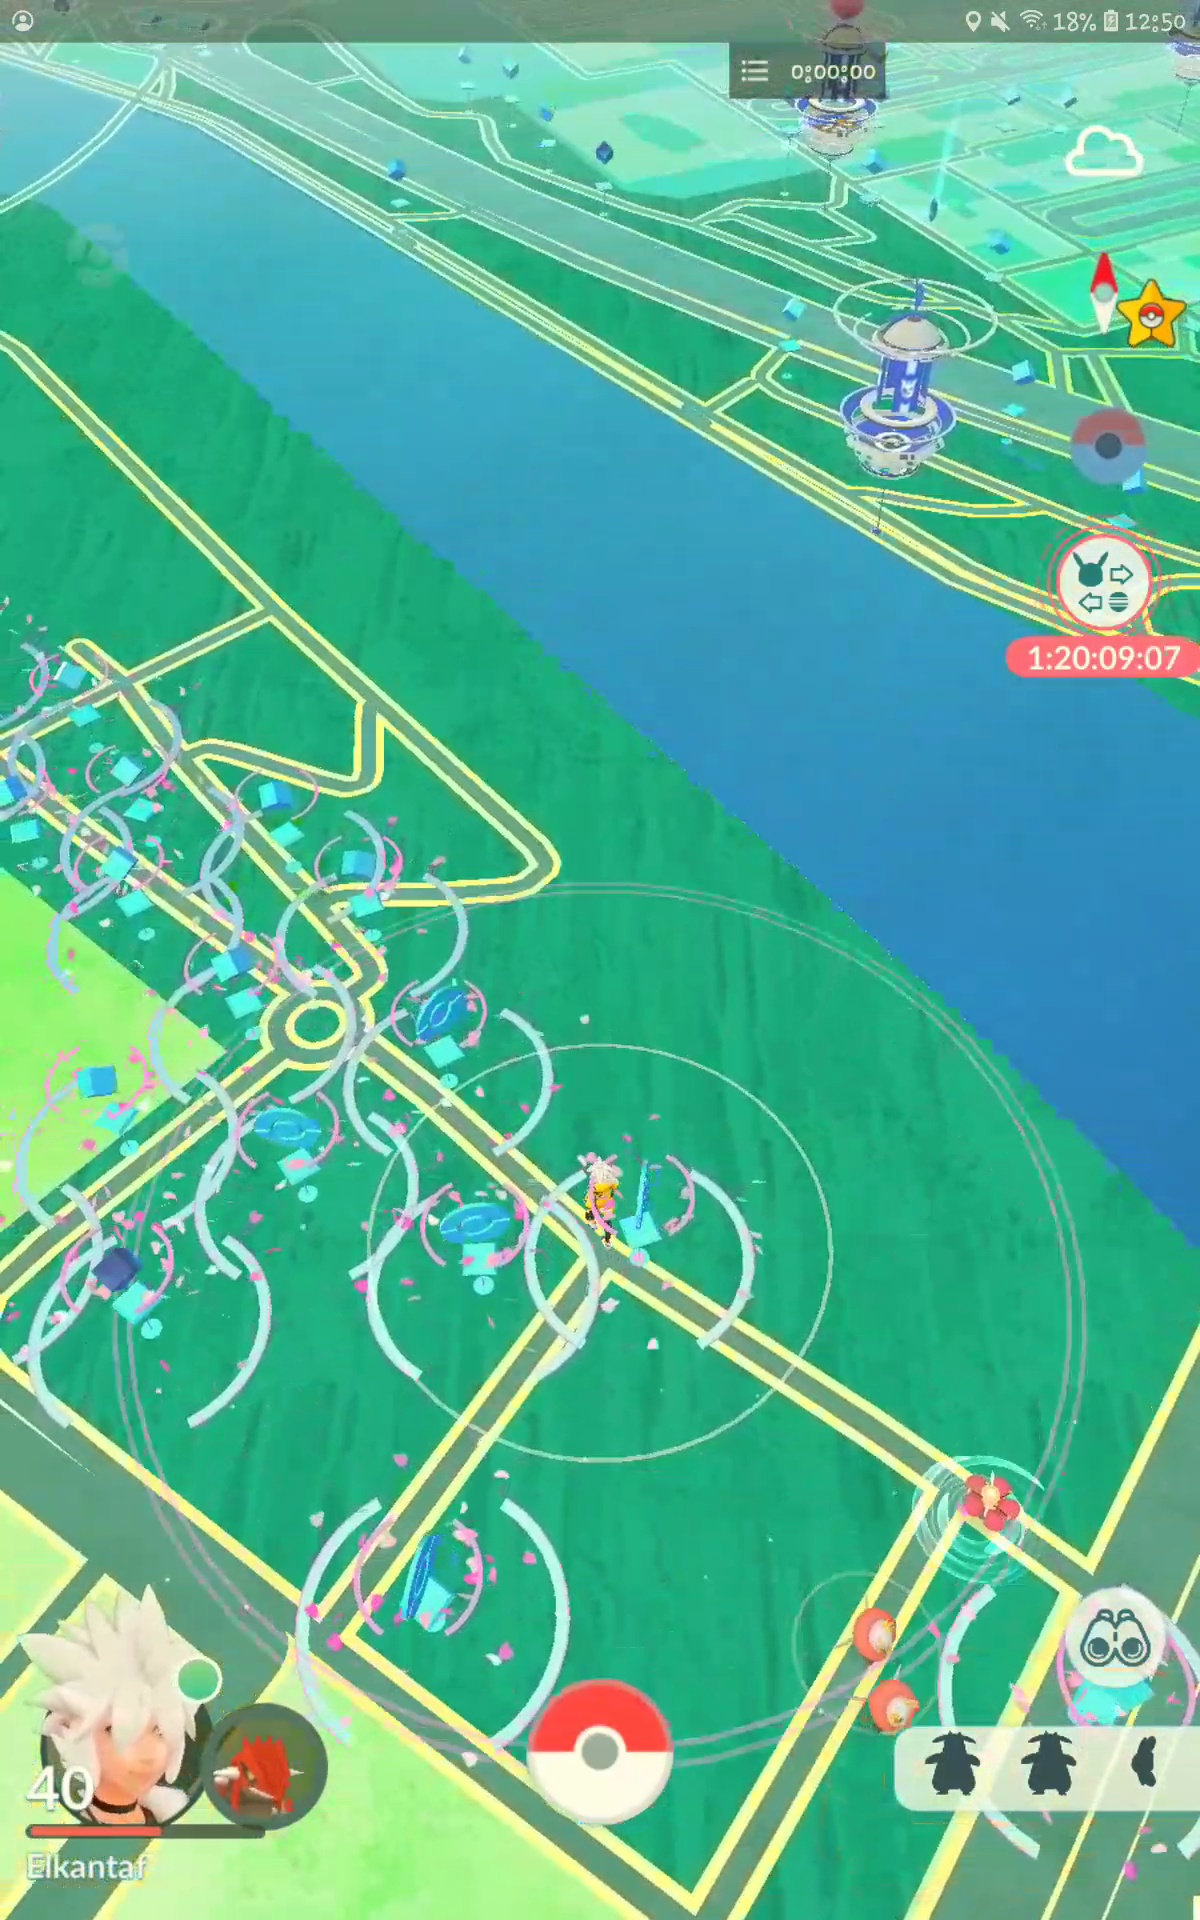Pokemon: (831, 1594, 911, 1670), (948, 1469, 1031, 1540), (861, 1668, 926, 1736)
